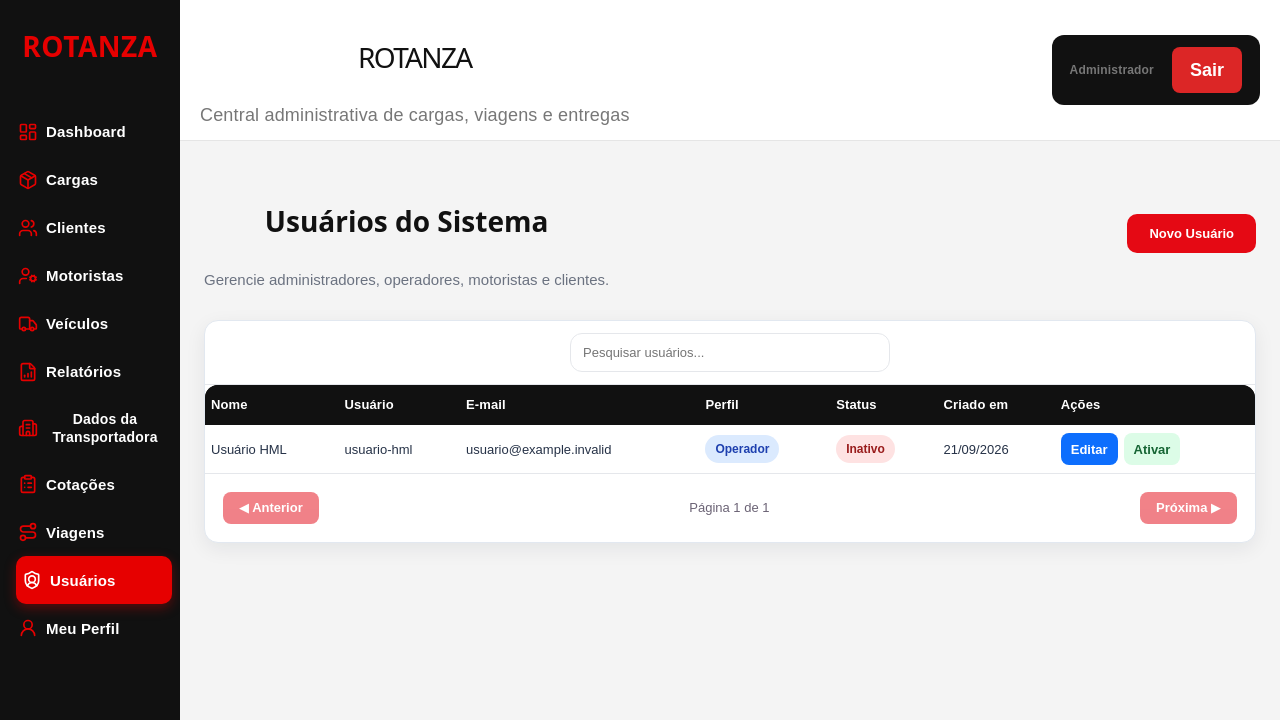
Scenario: confirma ativação e mostra toast de sucesso
Expected: the text "Usuário HML" is shown, x1=205 y1=425 x2=339 y2=473
Click the button "Ativar": point(1152, 449) x1=1124 y1=433 x2=1180 y2=465
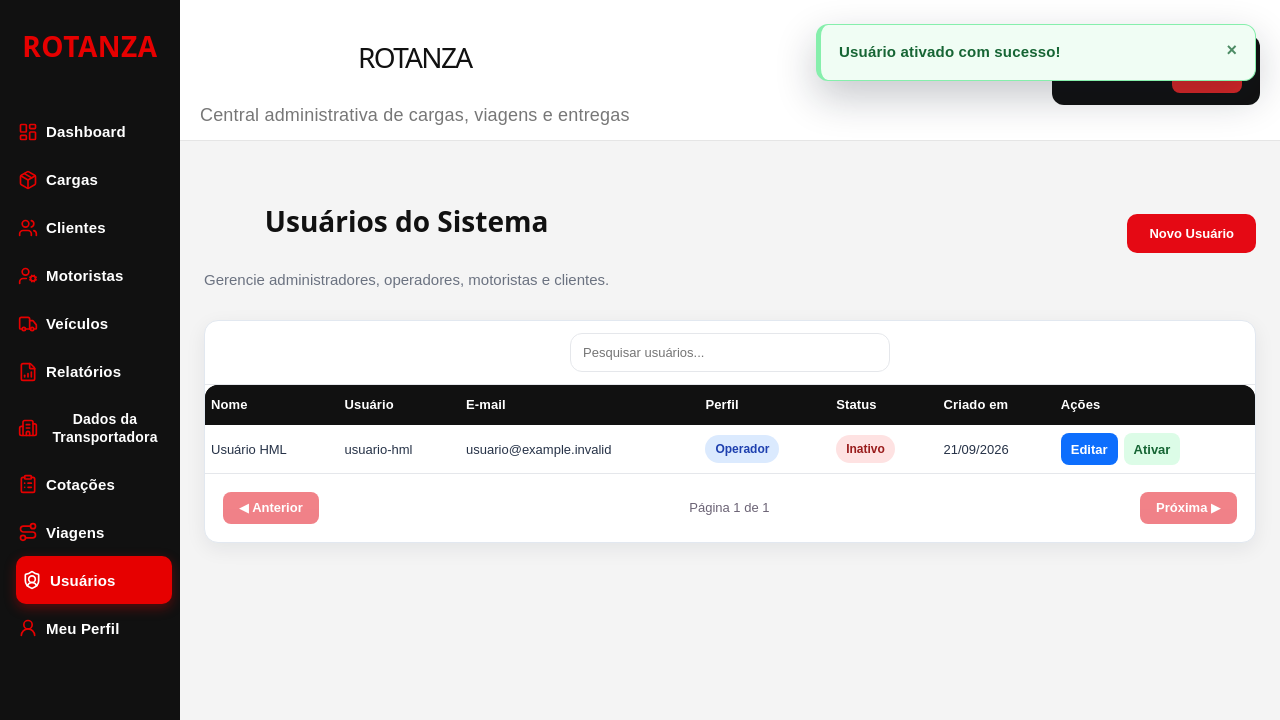
Expected: the text "Usuário ativado com sucesso!" is shown, x1=839 y1=41 x2=1061 y2=64
